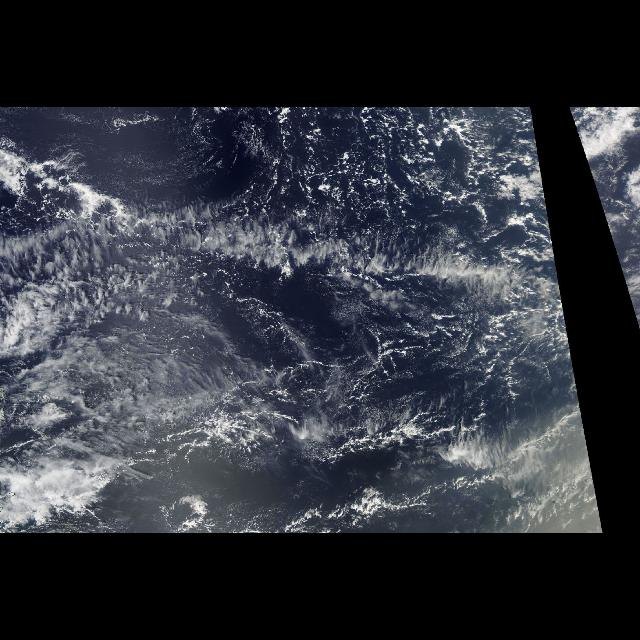Fish: (0, 133, 566, 370), (288, 384, 508, 474)
Gravel: (239, 109, 537, 248)
Sugar: (86, 132, 216, 220)
